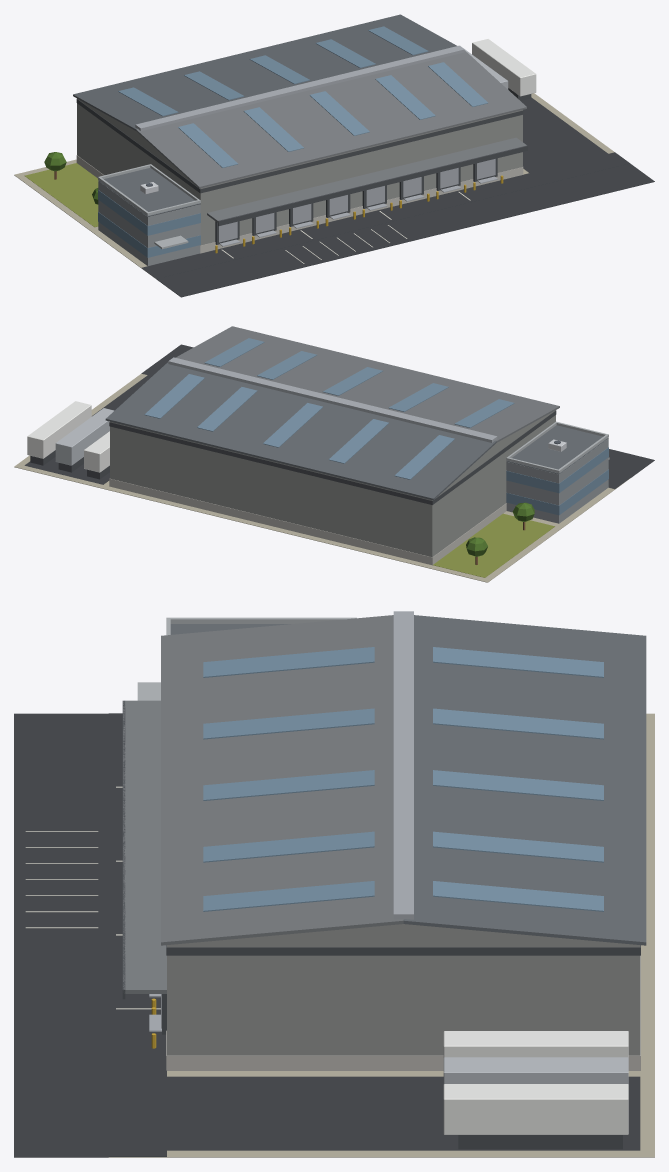
Rendered from warehouse.glb.
3 views of the same model, one above another, from view 1: azimuth 30°, elevation 25°; view 2: azimuth 150°, elevation 25°; view 3: azimuth 270°, elevation 25° (orthographic). The views are drawn at different scales.
Parts seen in each view (by area): view 1: warehouse; view 2: warehouse; view 3: warehouse.
Part boxes in pixels (left/top/right/bottom): warehouse: left=14, top=14, right=654, bottom=297; warehouse: left=14, top=326, right=654, bottom=582; warehouse: left=14, top=611, right=654, bottom=1157.
Size of the model in its own units: 72 by 11.95 by 44.
